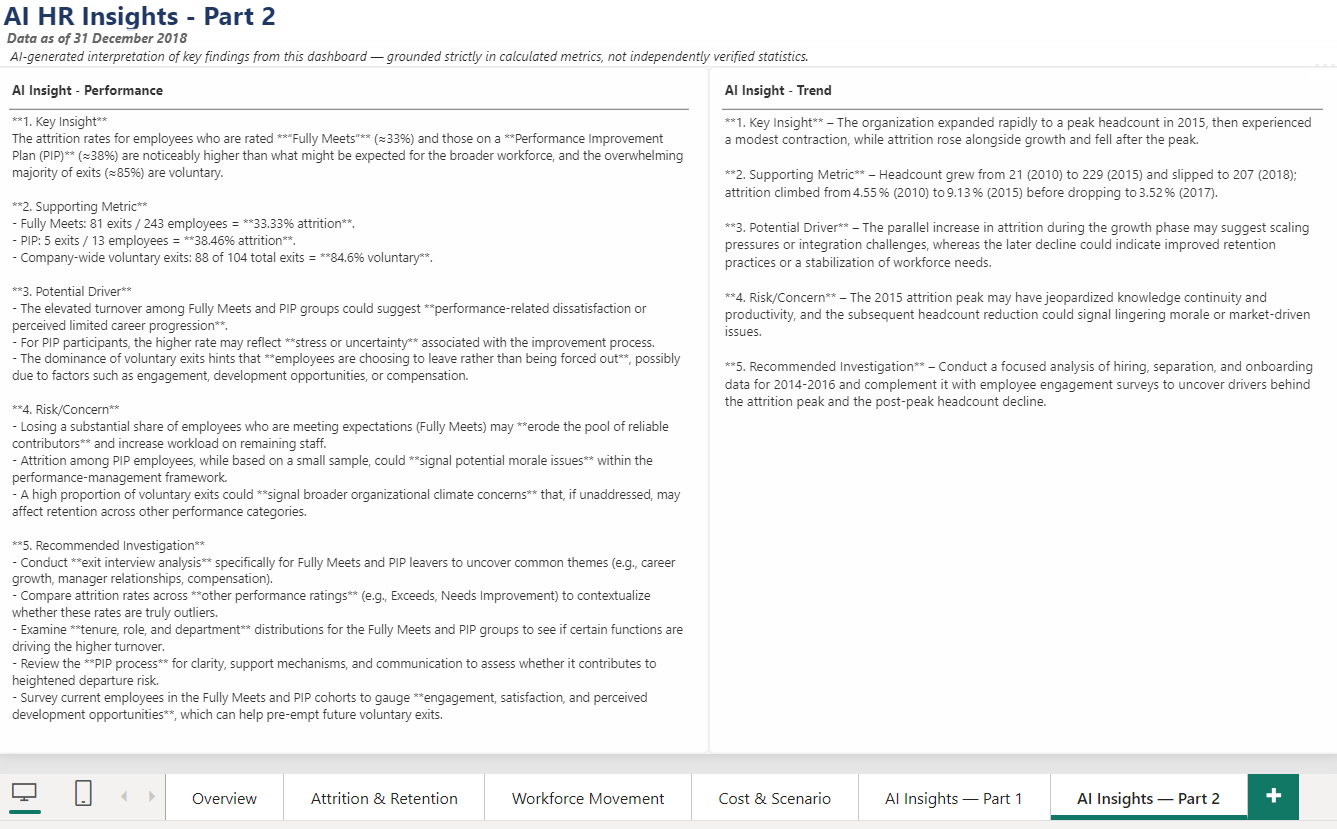

Layout of this report page (visuals, bound fields, positions):
{"tool":"powerbi","page":{"name":"AI Insights — Part 2","canvas":[1920,1080],"ordinal":5},"visuals":[{"type":"group","id":"g1","title":"Group 1","box":[0,0,1920.8,100.2],"z":0},{"type":"textbox","box":[0,0,1920.8,73.6],"z":0,"group":"g1"},{"type":"textbox","box":[0,45.4,1920.8,54.8],"z":1000,"group":"g1"},{"type":"tableEx","fields":{"Values":["AI Insight - Performance.AI Insight - Performance"]},"box":[0,100.7,1016.8,978.5],"z":1000},{"type":"tableEx","fields":{"Values":["AI Insight - Trend.AI Insight - Trend"]},"box":[1016.8,100.7,904,978.5],"z":2000}]}

Visuals, with their boxes on the page's 1920x1080 design canvas (x1, y1, x2, y2). These are canvas units, not pixel positions in the 1337x829 screenshot, which may show the page scaled, cropped or inside an application window:
"Group 1" group: x1=0, y1=0, x2=1921, y2=100
textbox: x1=0, y1=0, x2=1921, y2=74
textbox: x1=0, y1=45, x2=1921, y2=100
tableEx - AI Insight - Performance.AI Insight - Performance: x1=0, y1=101, x2=1017, y2=1079
tableEx - AI Insight - Trend.AI Insight - Trend: x1=1017, y1=101, x2=1921, y2=1079
